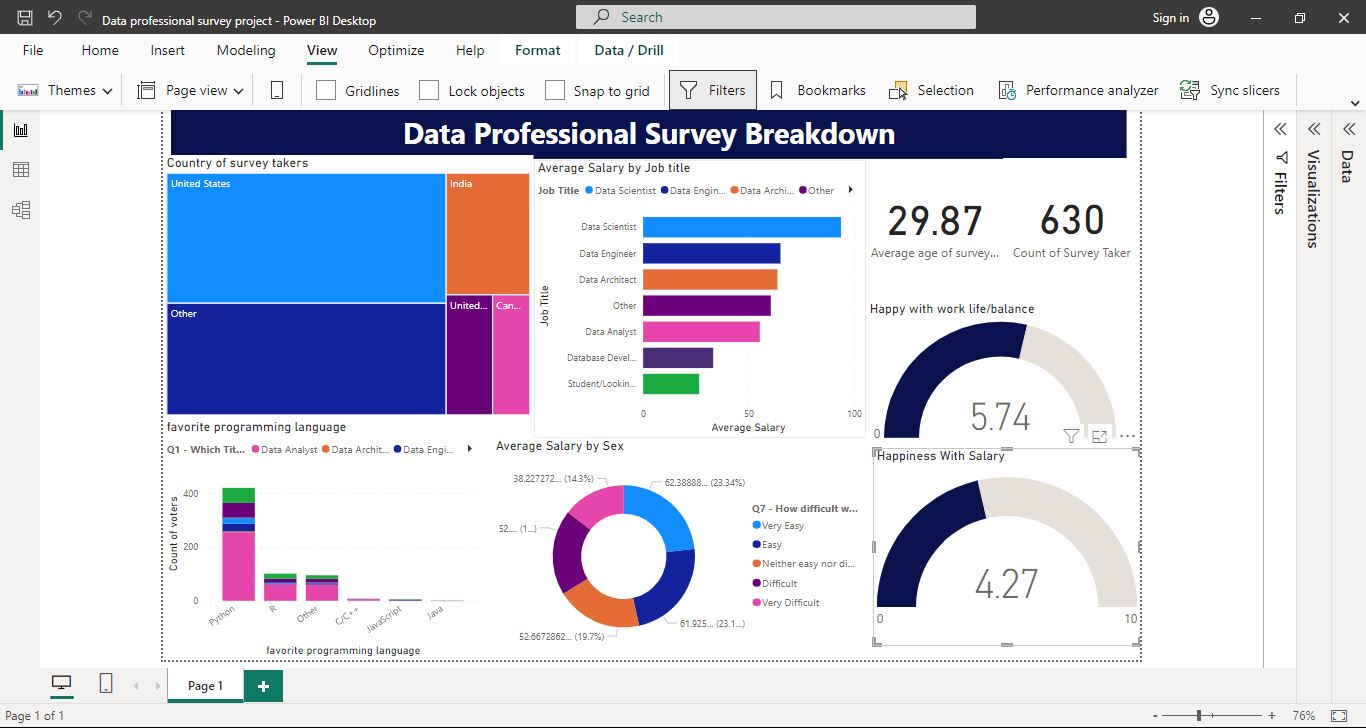

Layout of this report page (visuals, bound fields, positions):
{"tool":"powerbi","page":{"name":"Page 1","canvas":[1280,720],"ordinal":0},"visuals":[{"type":"textbox","box":[10.1,0,1251.5,63.7],"z":0},{"type":"card","fields":{"Values":["CountNonNull(Data Professional Survey.Unique ID)"]},"box":[1099.9,63.2,180.1,169.1],"z":1000},{"type":"card","fields":{"Values":["Avg(Data Professional Survey.Q10 - Current Age)"]},"box":[919.8,66,180.1,166.4],"z":2000},{"type":"barChart","title":"Average Salary by Job title","fields":{"Category":["Data Professional Survey.Q1 - Which Title Best Fits your Current Role?.1"],"Y":["Avg(Data Professional Survey.Average Salary)"],"Series":["Data Professional Survey.Q1 - Which Title Best Fits your Current Role?.1"]},"box":[485.3,66,434.5,363],"z":3000},{"type":"columnChart","title":" favorite programming language","fields":{"Category":["Data Professional Survey.Q5 - Favorite Programming Language.1"],"Y":["CountNonNull(Data Professional Survey.Unique ID)"],"Series":["Data Professional Survey.Q1 - Which Title Best Fits your Current Role?.1"]},"box":[0,404.2,420.7,316.2],"z":4000},{"type":"treemap","title":"Country of survey takers","fields":{"Values":["CountNonNull(Data Professional Survey.Q11 - Which Country do you live in?.1)"],"Group":["Data Professional Survey.Q11 - Which Country do you live in?.1"]},"box":[0,59.1,485.3,345.1],"z":5000},{"type":"gauge","title":"Happiness With Salary","fields":{"Y":["Avg(Data Professional Survey.Q6 - How Happy are you in your Current Position with the following? (Salary))"],"MinValue":["Min(Data Professional Survey.Q6 - How Happy are you in your Current Position with the following? (Salary))"],"MaxValue":["Max(Data Professional Survey.Q6 - How Happy are you in your Current Position with the following? (Salary))"]},"box":[929.4,442.7,350.6,258.5],"z":6000},{"type":"gauge","title":"Happy with work life/balance","fields":{"Y":["Avg(Data Professional Survey.Q6 - How Happy are you in your Current Position with the following? (Work/Life Balance))"],"MinValue":["Min(Data Professional Survey.Q6 - How Happy are you in your Current Position with the following? (Work/Life Balance))1"],"MaxValue":["Max(Data Professional Survey.Q6 - How Happy are you in your Current Position with the following? (Work/Life Balance))"]},"box":[919.8,250.2,360.2,192.5],"z":7000},{"type":"donutChart","title":"Average Salary by Sex","fields":{"Category":["Data Professional Survey.Q7 - How difficult was it for you to break into Data?"],"Y":["Avg(Data Professional Survey.Average Salary)"]},"box":[430.3,429,489.5,291.5],"z":8000}]}

Visuals, with their boxes on the page's 1280x720 design canvas (x1, y1, x2, y2). These are canvas units, not pixel positions in the 1366x728 screenshot, which may show the page scaled, cropped or inside an application window:
textbox: x1=10, y1=0, x2=1262, y2=64
card - CountNonNull(Data Professional Survey.Unique ID): x1=1100, y1=63, x2=1280, y2=232
card - Avg(Data Professional Survey.Q10 - Current Age): x1=920, y1=66, x2=1100, y2=232
"Average Salary by Job title" barChart: x1=485, y1=66, x2=920, y2=429
" favorite programming language" columnChart: x1=0, y1=404, x2=421, y2=720
"Country of survey takers" treemap: x1=0, y1=59, x2=485, y2=404
"Happiness With Salary" gauge: x1=929, y1=443, x2=1280, y2=701
"Happy with work life/balance" gauge: x1=920, y1=250, x2=1280, y2=443
"Average Salary by Sex" donutChart: x1=430, y1=429, x2=920, y2=720
